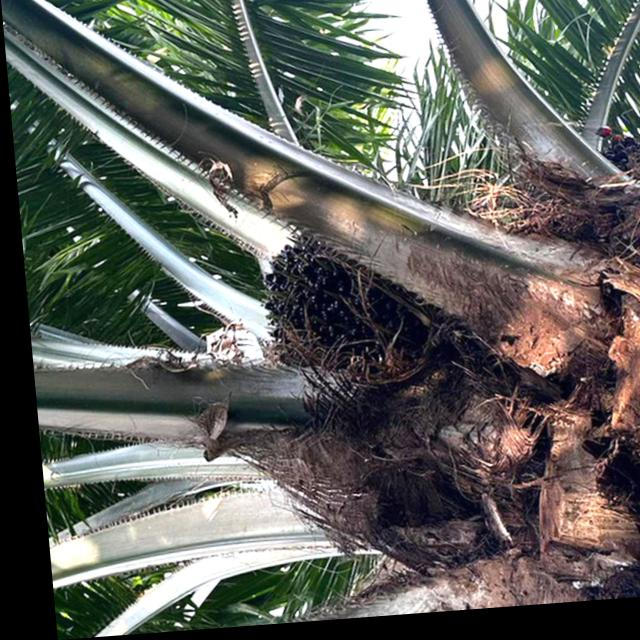ripe: (241, 229, 393, 375)
